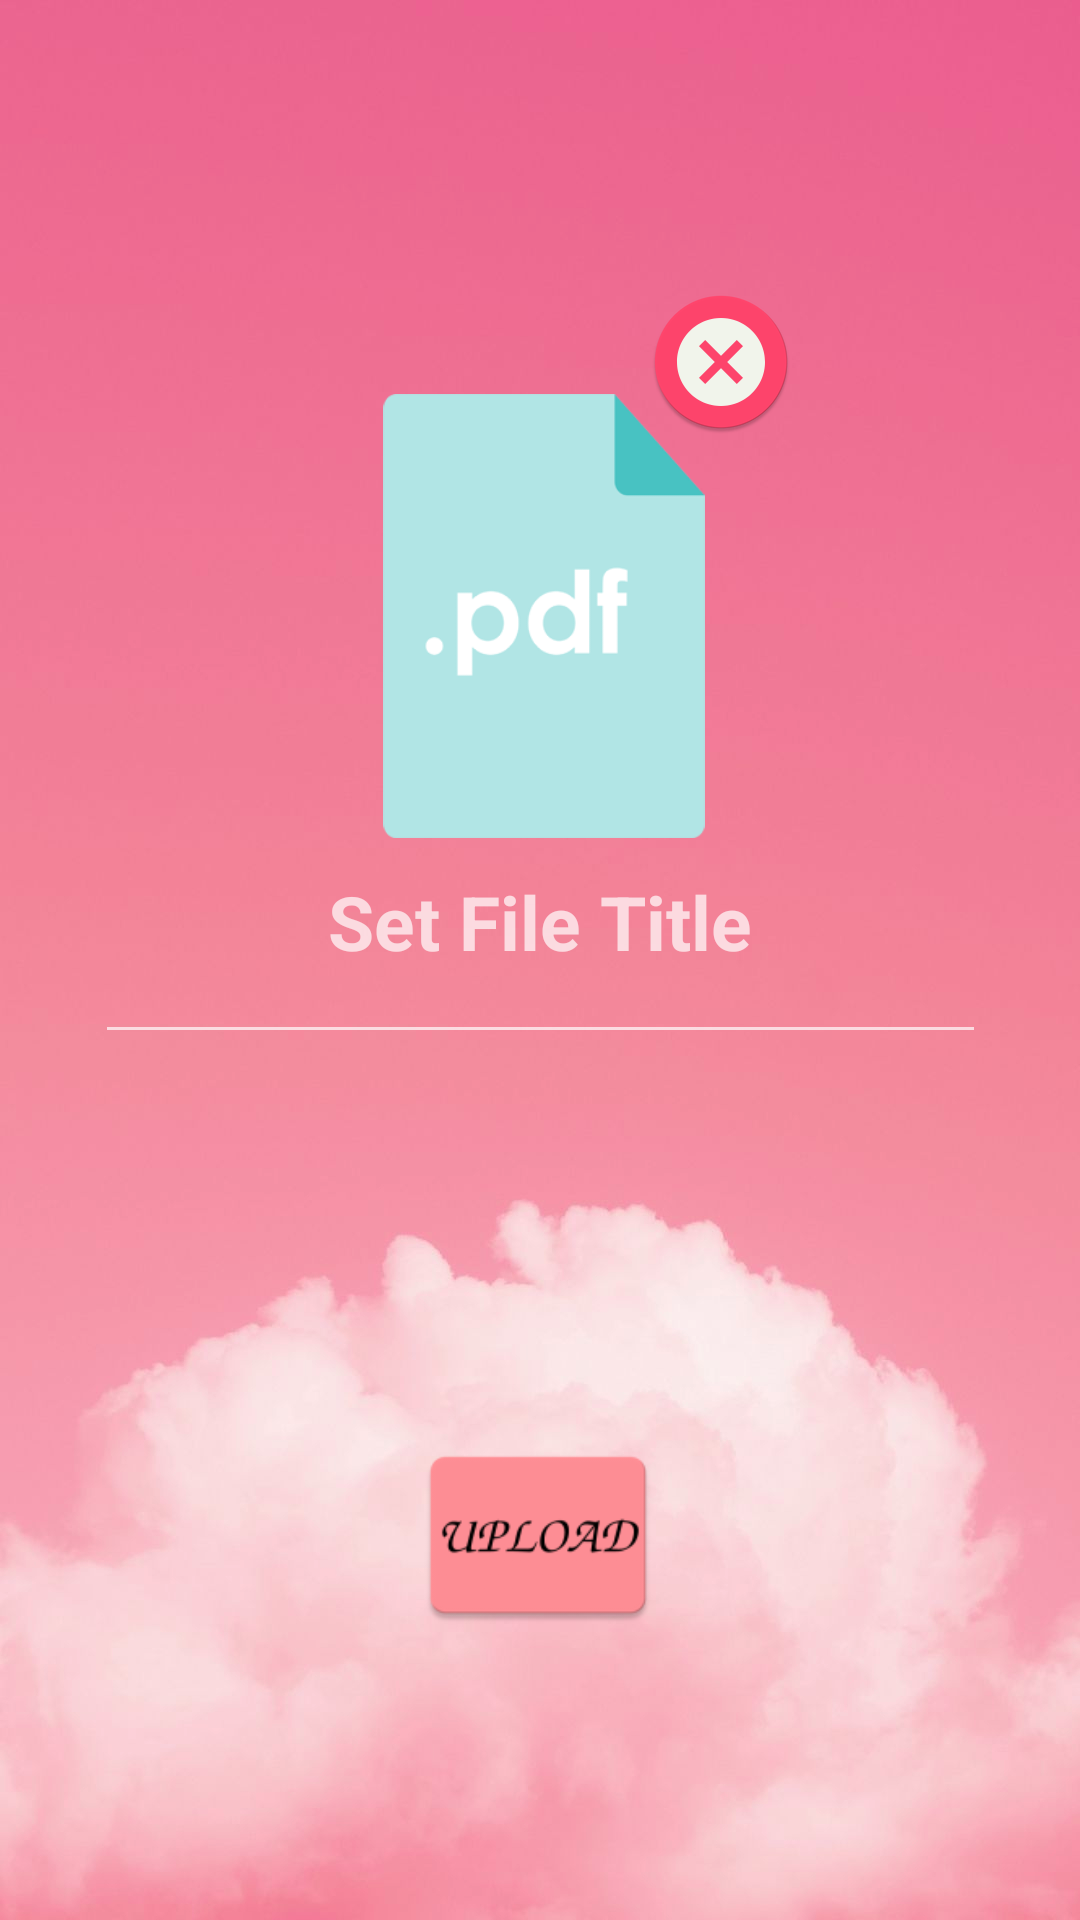

Named icons in this screenshot (1080px x 1920px) and their bounding boxes, (x1, y1, x2, y2):
cancel cli: (655, 296, 788, 431)
